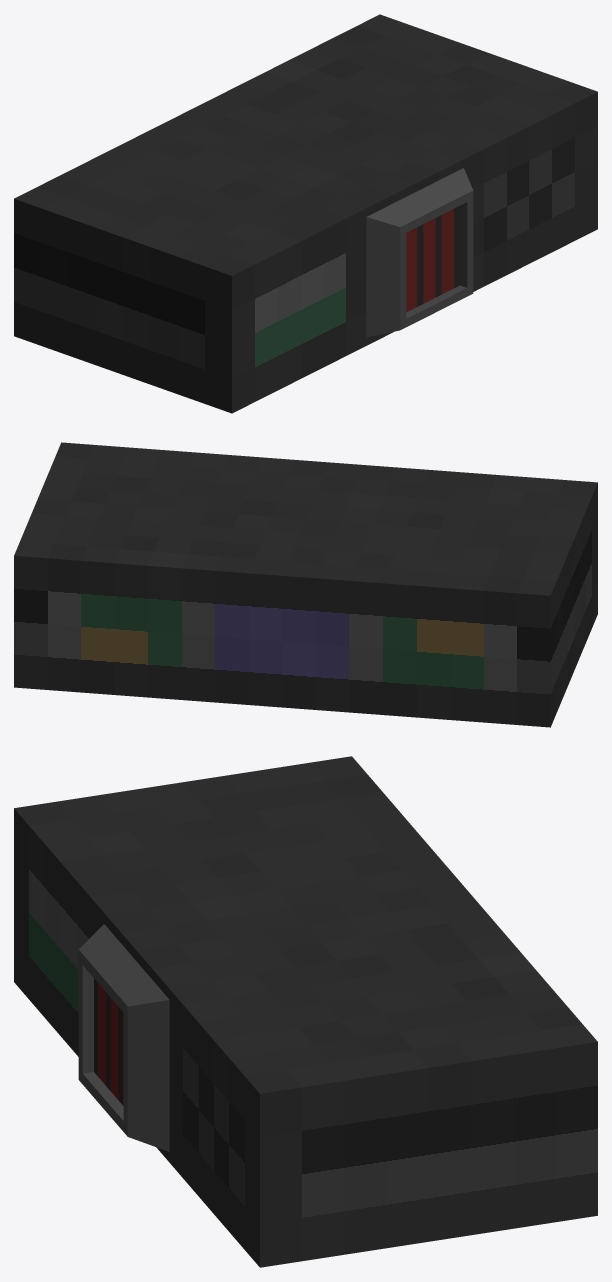
Rendered from acivebox.obj.
3 views of the same model, one above another, from view 1: azimuth 30°, elevation 25°; view 2: azimuth 150°, elevation 25°; view 3: azimuth 270°, elevation 25° (orthographic). The views are drawn at different scales.
Visible parts, largest first — view 1: cube, speaker, speaker2, speaker3, speaker1; view 2: cube; view 3: cube, speaker, speaker2.
Part boxes in pixels (x1=…): cube: x1=14, y1=14, x2=597, y2=413; speaker: x1=366, y1=168, x2=473, y2=337; speaker2: x1=406, y1=220, x2=453, y2=294; speaker3: x1=406, y1=209, x2=453, y2=312; speaker1: x1=406, y1=237, x2=453, y2=277; cube: x1=14, y1=442, x2=597, y2=727; cube: x1=14, y1=756, x2=597, y2=1267; speaker: x1=78, y1=924, x2=169, y2=1151; speaker2: x1=98, y1=990, x2=123, y2=1084.
Size of the model in its own units: 0.5206 by 0.125 by 0.3806.
